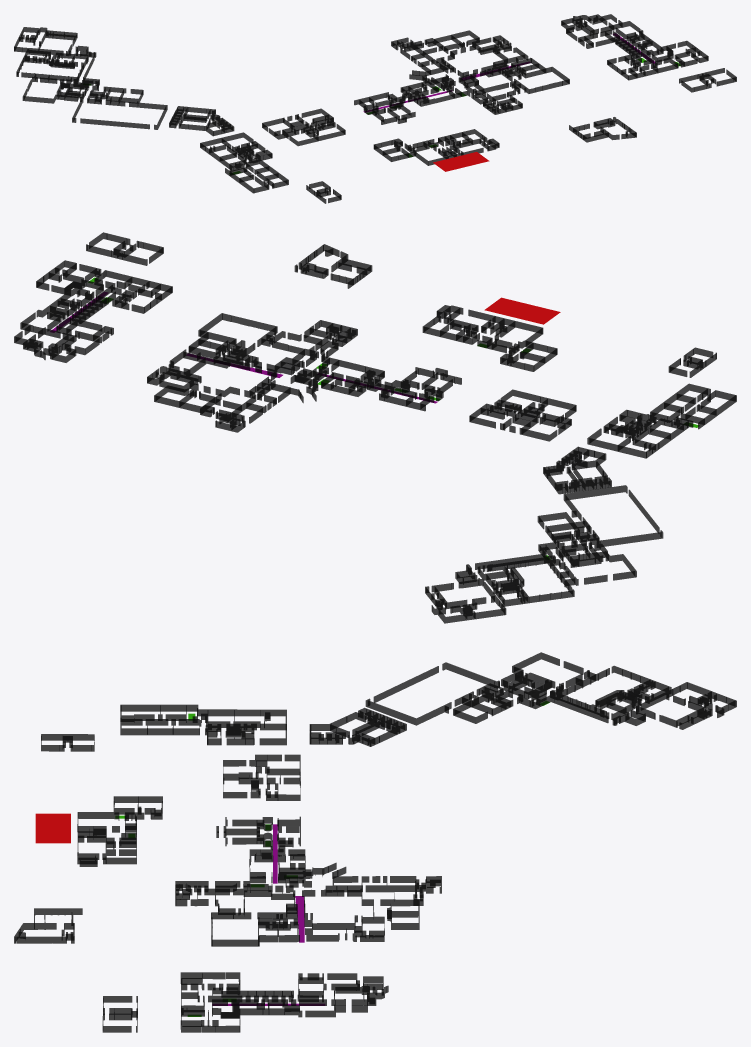
Rendered from ground-floor.dae.
The picture shows the model from 3 angles, top to bottom: view 1: azimuth 30°, elevation 25°; view 2: azimuth 150°, elevation 25°; view 3: azimuth 270°, elevation 25°; orthographic projection. The views are drawn at different scales.
Parts seen in each view (by area): view 1: Walls_Ground_Floor, Ground_Floor_Fire_Assembly_Point; view 2: Walls_Ground_Floor, Ground_Floor_Fire_Assembly_Point; view 3: Walls_Ground_Floor, Ground_Floor_Fire_Assembly_Point.
Boxes of the visible parts, bbox=[...] form: Walls_Ground_Floor: bbox=[14, 14, 736, 203]; Ground_Floor_Fire_Assembly_Point: bbox=[433, 152, 489, 171]; Walls_Ground_Floor: bbox=[14, 232, 736, 623]; Ground_Floor_Fire_Assembly_Point: bbox=[484, 297, 560, 324]; Walls_Ground_Floor: bbox=[14, 652, 736, 1032]; Ground_Floor_Fire_Assembly_Point: bbox=[35, 813, 70, 843].
Size of what is drawn, in the model's own units: 12.56 by 10.26 by 0.1121.
